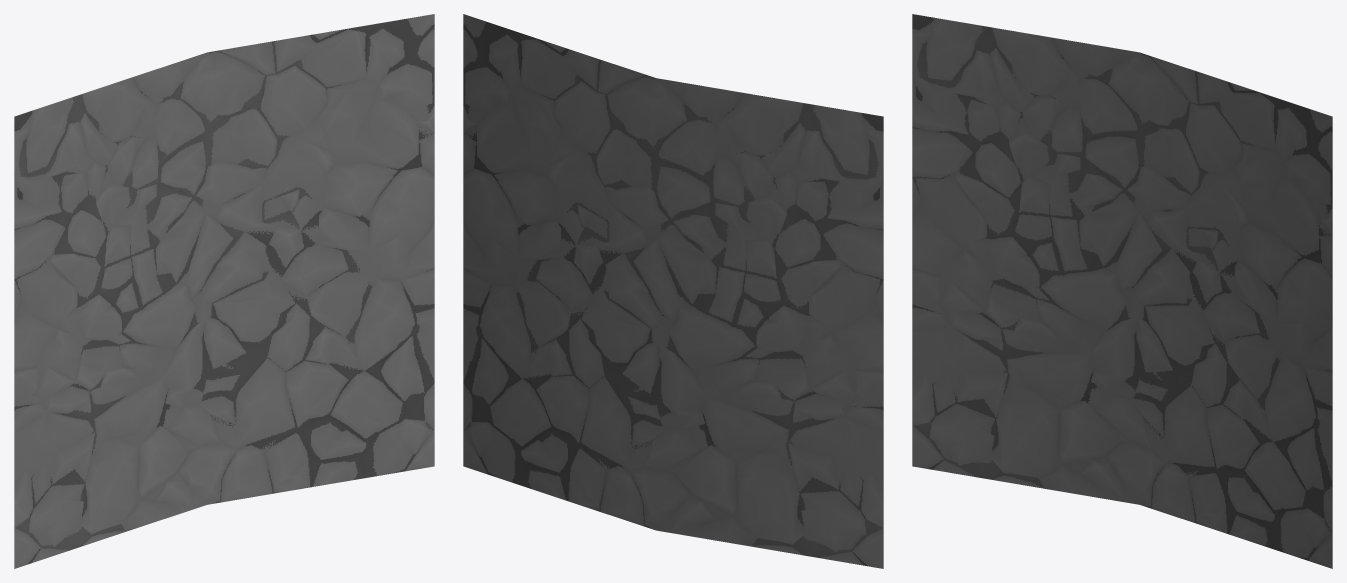
The model's file is Rock_Wall_C.FBX.
3 views of the same model, side by side, from view 1: azimuth 30°, elevation 25°; view 2: azimuth 150°, elevation 25°; view 3: azimuth 330°, elevation 25° (orthographic).
Parts seen in each view (by area): view 1: Rock_Wall_C; view 2: Rock_Wall_C; view 3: Rock_Wall_C.
Part boxes in pixels (box(x1,y1,x2,y2)): Rock_Wall_C: box(14, 14, 434, 568); Rock_Wall_C: box(463, 14, 883, 568); Rock_Wall_C: box(912, 14, 1332, 568).
Bounding box in the file's own units: 410 × 422 × 29.55.
1 material, 1 textured.
